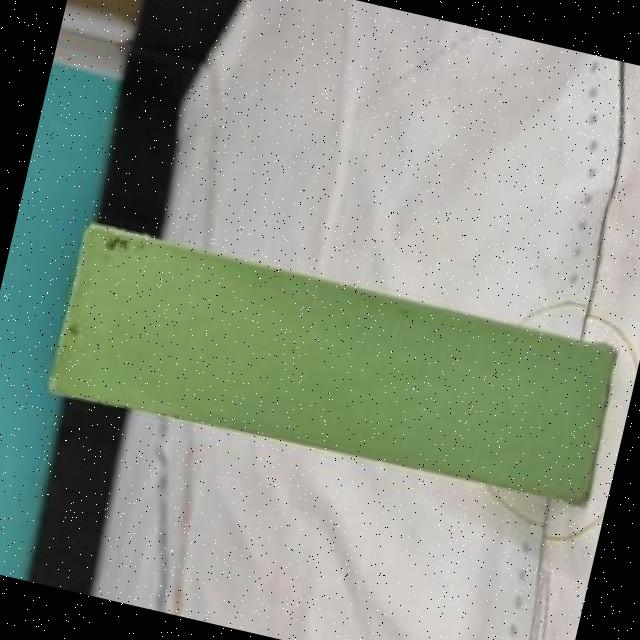greenbox: (48, 222, 623, 508)
